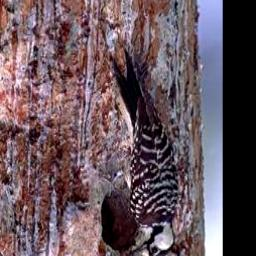Woodpecker: (112, 50, 178, 256)
